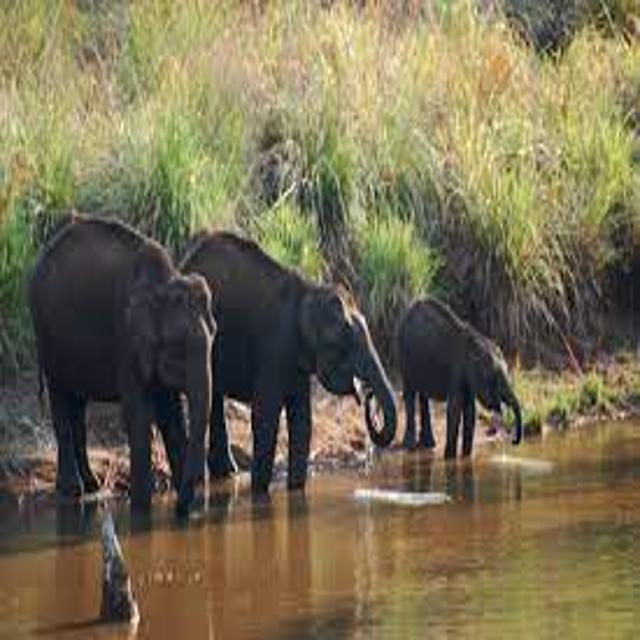Elephant: (180, 182, 411, 540), (12, 198, 228, 484), (372, 282, 536, 509)
